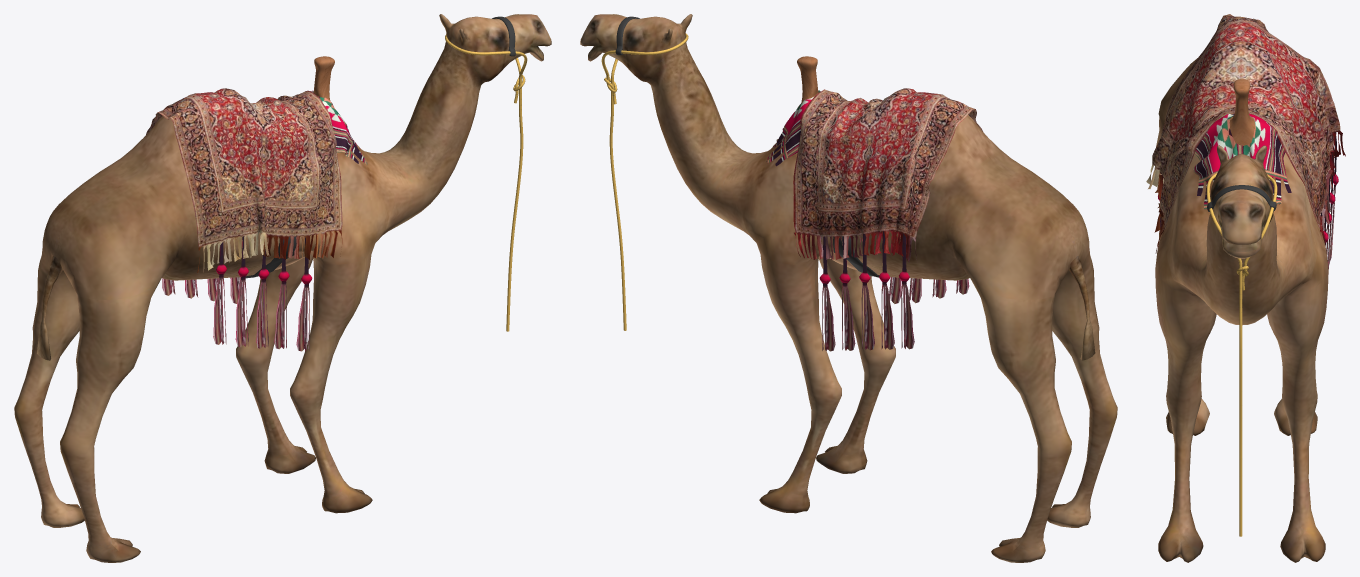
Rendered from Camel.lite.glb.
The picture shows the model from 3 angles, left to right: view 1: azimuth 30°, elevation 25°; view 2: azimuth 150°, elevation 25°; view 3: azimuth 270°, elevation 25°; orthographic projection. The views are drawn at different scales.
Visible parts, largest first — view 1: c_0; view 2: c_0; view 3: c_0.
Boxes of the visible parts, box(x1,y1,x2,y2) form: c_0: box(14, 14, 551, 562); c_0: box(580, 14, 1117, 562); c_0: box(1146, 14, 1345, 562).
Bounding box in the file's own units: 2.86 × 2.31 × 0.8663.
1 material, 1 textured.
